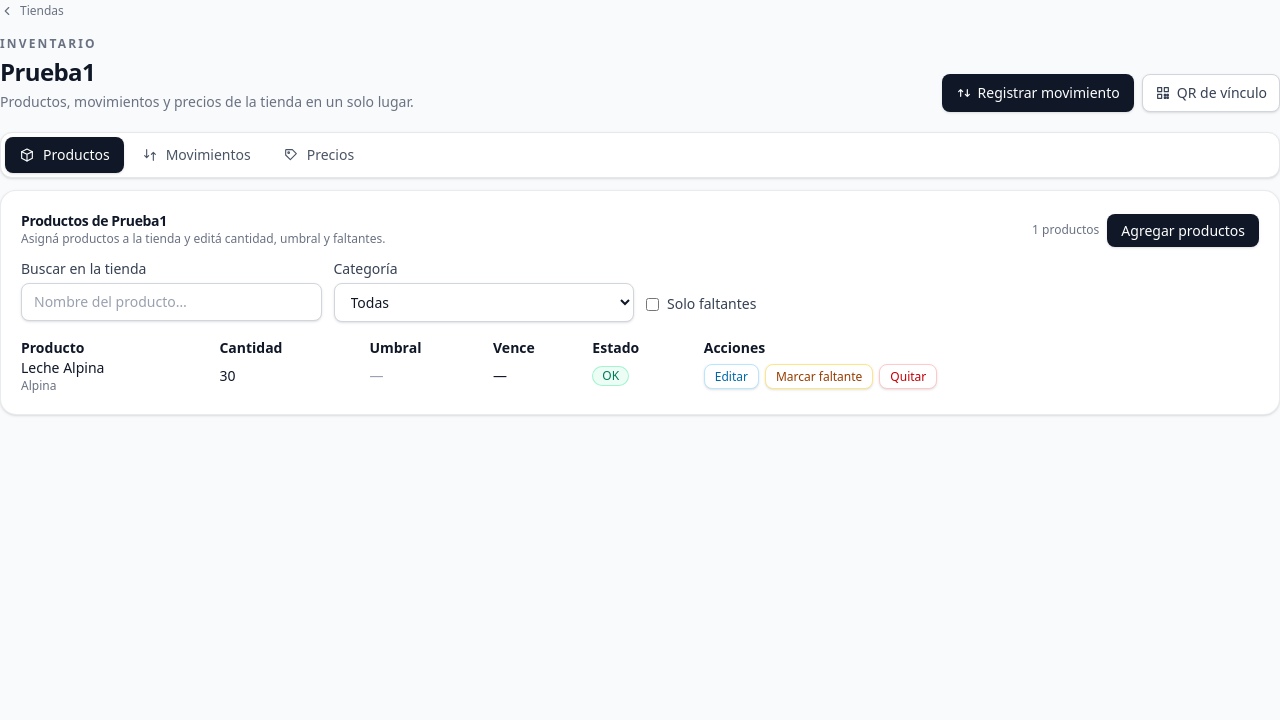
Test case: 0030 · el prellenado refleja el precio recién editado › alta: el modal muestra el precio de venta recién cargado
Check: the text "Leche Alpina" is shown, box [21, 358, 104, 377]
Click the button "Agregar productos".
click(1183, 230)  # box [1107, 214, 1259, 247]
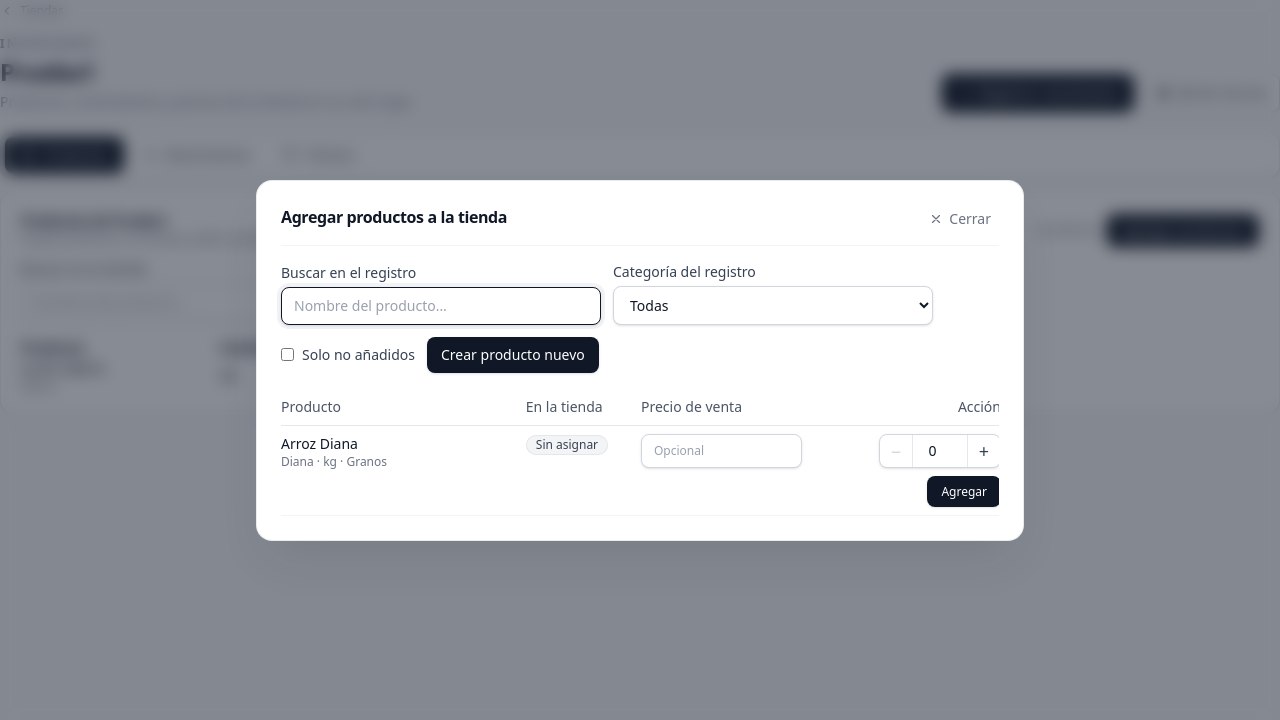
Type "2500" into the number field named "Precio de venta de Arroz Diana".
click(721, 450); type("2500")  # box [641, 434, 802, 468]
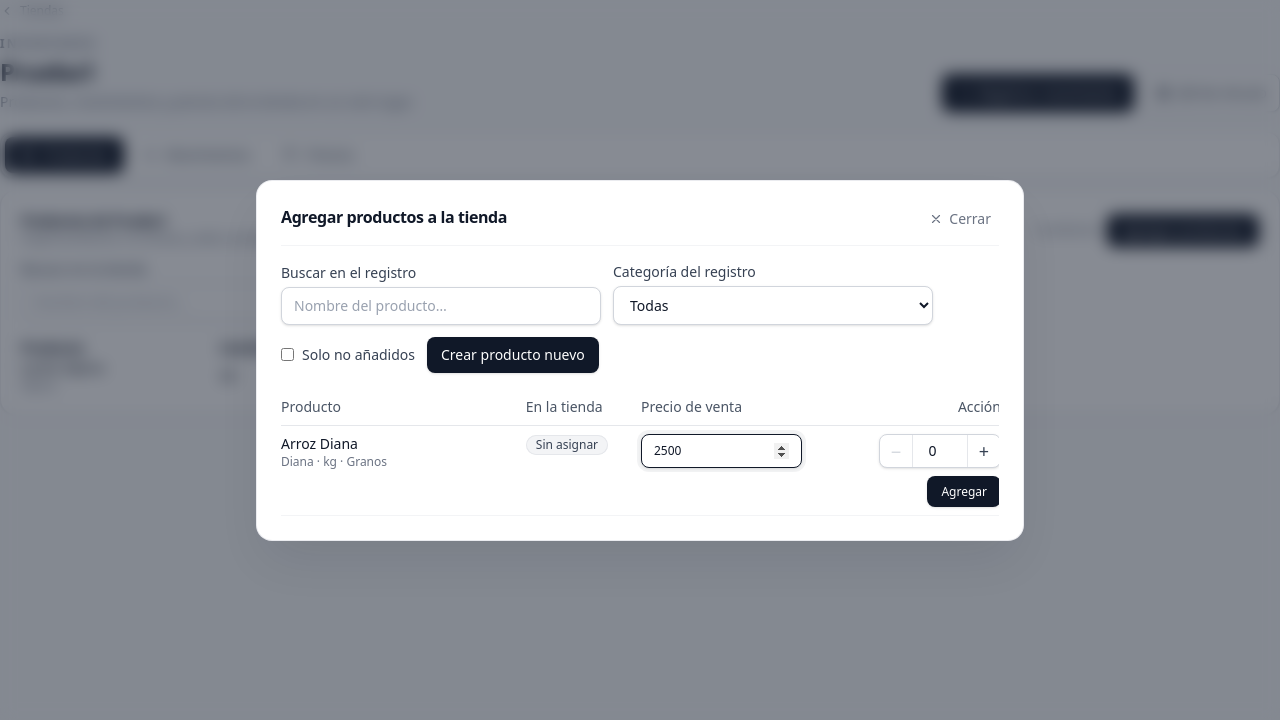
Click the button "Agregar".
click(964, 491)  # box [927, 476, 1001, 506]
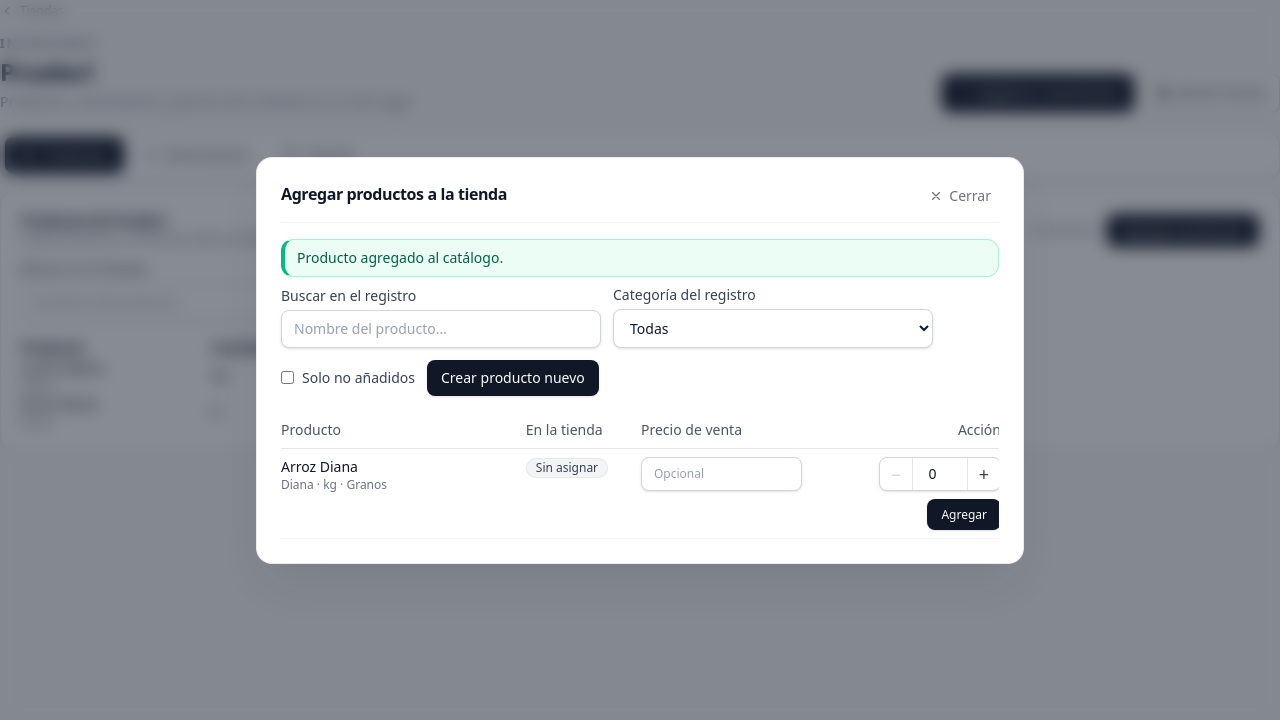
Click the button "Cerrar".
click(960, 196)  # box [921, 182, 999, 210]
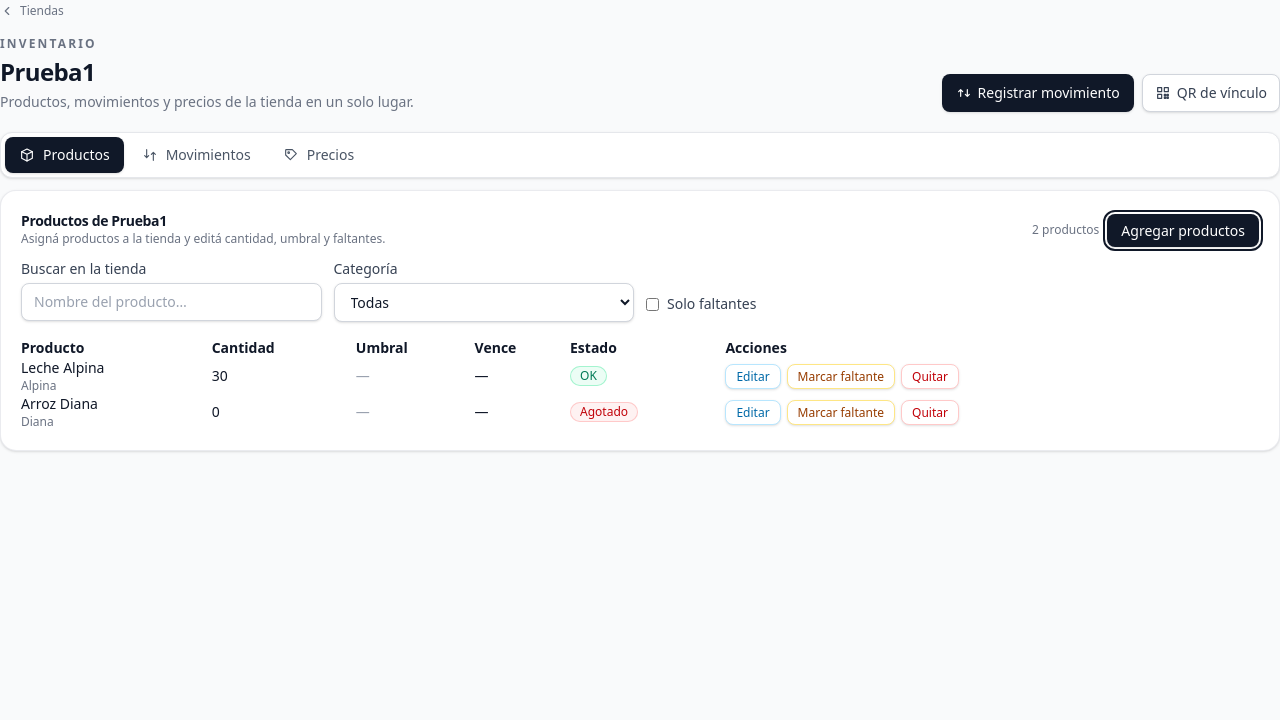
Check: the text "Arroz Diana" is shown, box [21, 394, 98, 413]
Check: the button "Editar" in the row of "Arroz Diana" is enabled
Click the button "Editar" in the row of "Arroz Diana".
click(753, 412)  # box [725, 400, 781, 424]
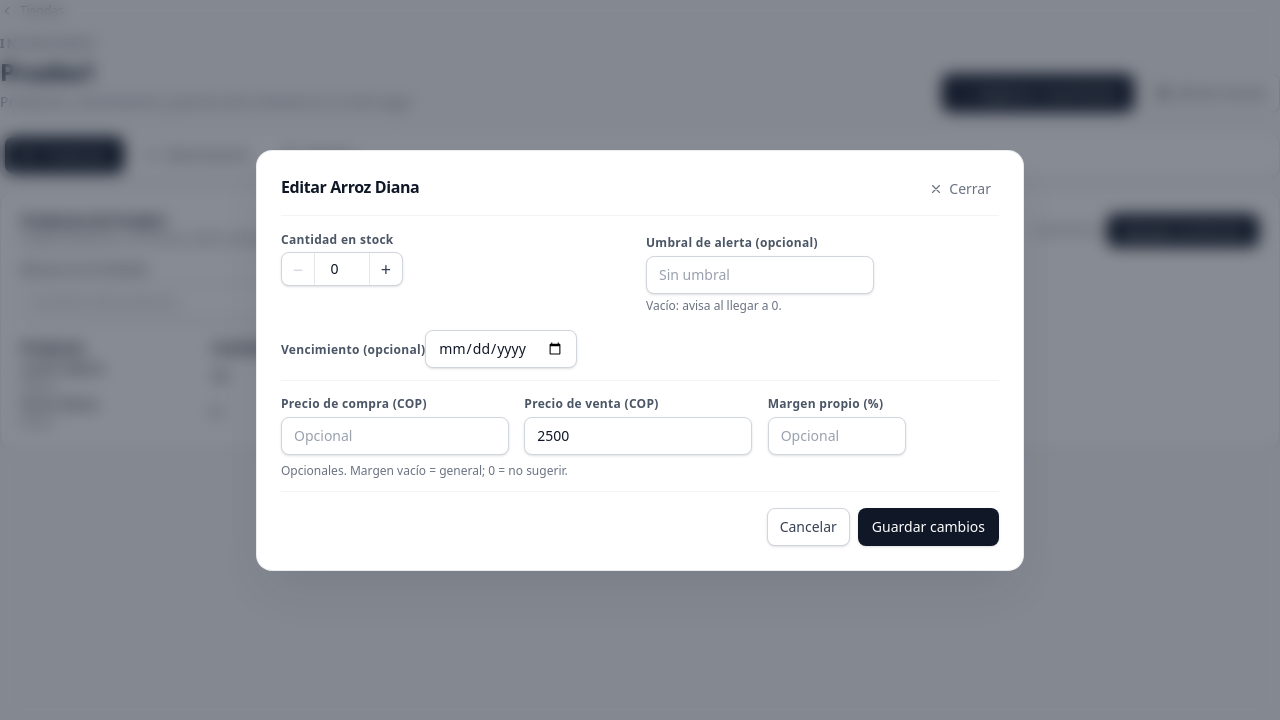
Check: the number field labelled "Precio de venta (COP)" holds "2500", box [524, 416, 752, 454]
